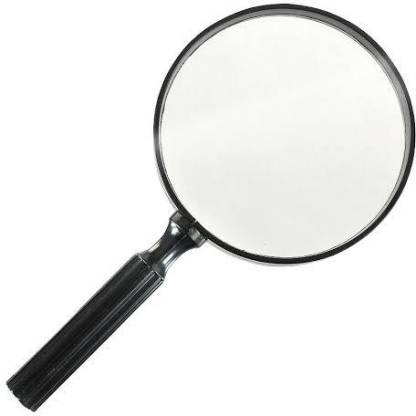magnifying-glass: (35, 3, 412, 306)
